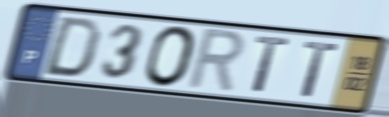3: (100, 23, 145, 82)
D: (39, 14, 104, 80)
O: (143, 24, 199, 89)
R: (183, 26, 247, 97)
T: (251, 33, 293, 96), (300, 39, 341, 100)
